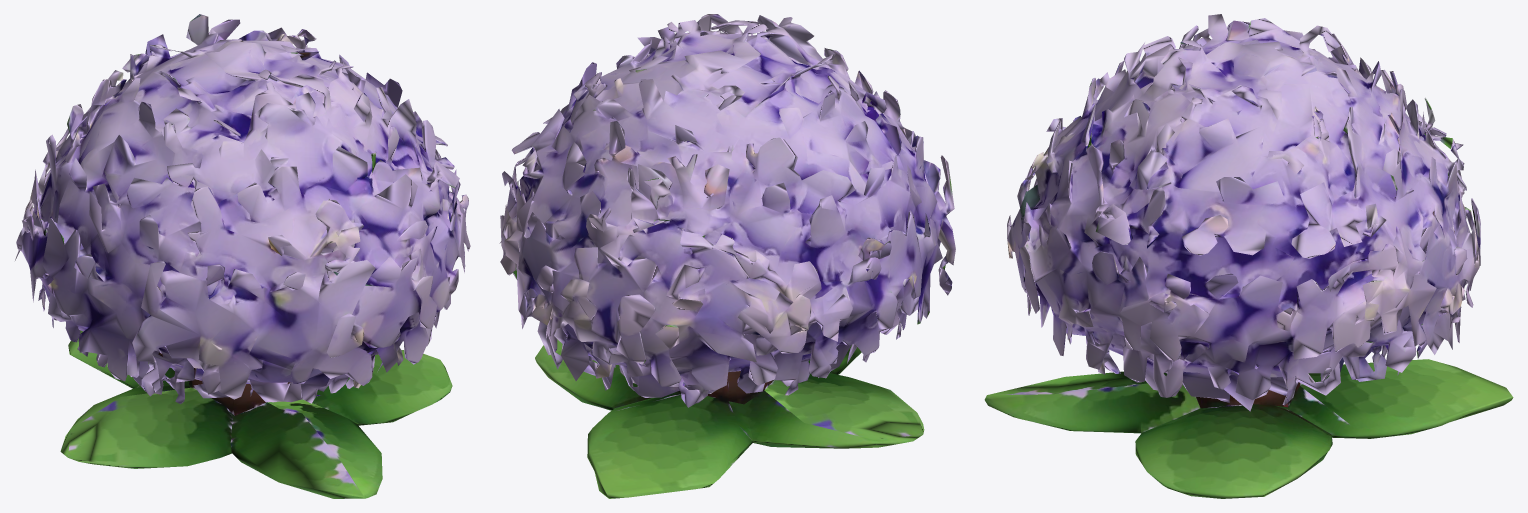
The model's file is flowerbush_textured.glb.
The picture shows the model from 3 angles, left to right: view 1: azimuth 30°, elevation 25°; view 2: azimuth 150°, elevation 25°; view 3: azimuth 270°, elevation 25°; orthographic projection. The views are drawn at different scales.
Parts seen in each view (by area): view 1: temp_mesh.ply; view 2: temp_mesh.ply; view 3: temp_mesh.ply.
Part boxes in pixels (x1,y1,x2,y2): temp_mesh.ply: [15, 14, 470, 498]; temp_mesh.ply: [499, 14, 955, 498]; temp_mesh.ply: [984, 14, 1513, 498].
Size of the model in its own units: 1.59 by 1.4 by 1.85.
Materials: 1 (1 with a texture image).
